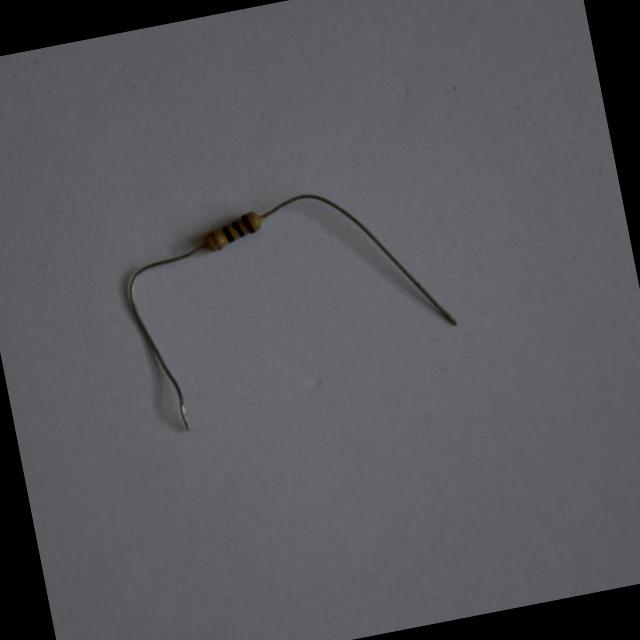Resistor: (199, 208, 270, 258)
